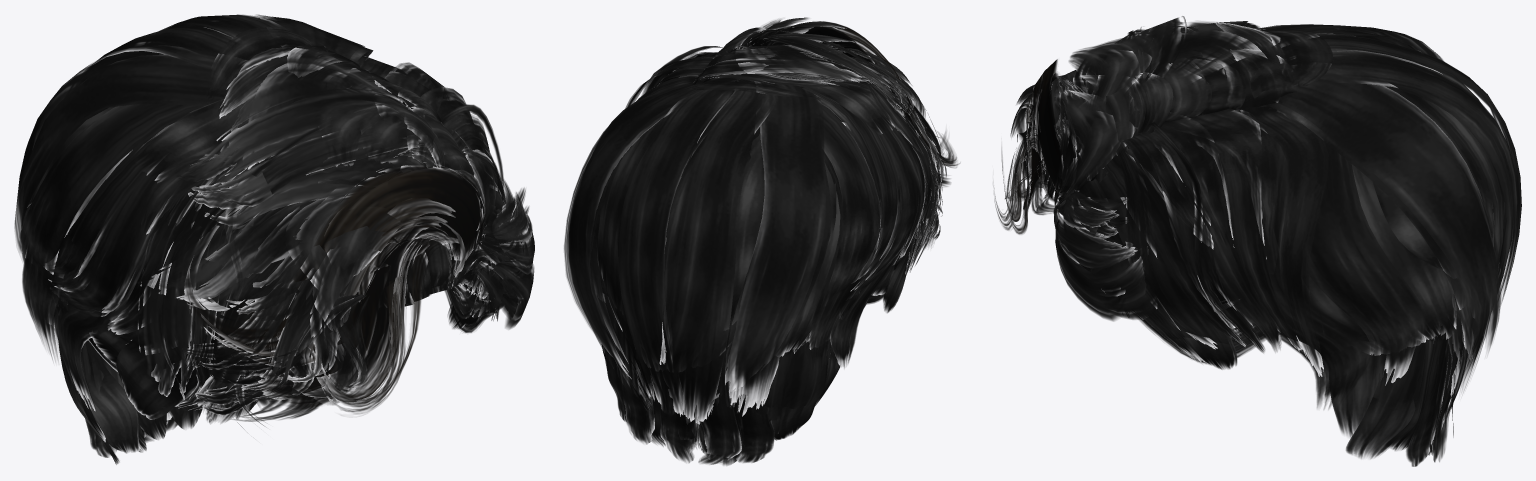
The model's file is SideSwept.glb.
The picture shows the model from 3 angles, left to right: view 1: azimuth 30°, elevation 25°; view 2: azimuth 150°, elevation 25°; view 3: azimuth 270°, elevation 25°; orthographic projection. The views are drawn at different scales.
Parts seen in each view (by area): view 1: SIDE SWEPT - CurlyFront; view 2: SIDE SWEPT - CurlyFront; view 3: SIDE SWEPT - CurlyFront.
Boxes of the visible parts, x1=… form: SIDE SWEPT - CurlyFront: x1=14, y1=14, x2=534, y2=464; SIDE SWEPT - CurlyFront: x1=564, y1=17, x2=959, y2=465; SIDE SWEPT - CurlyFront: x1=994, y1=16, x2=1521, y2=466.
Size of the model in its own units: 0.2028 by 0.2256 by 0.2677.
2 materials, 2 textured.
